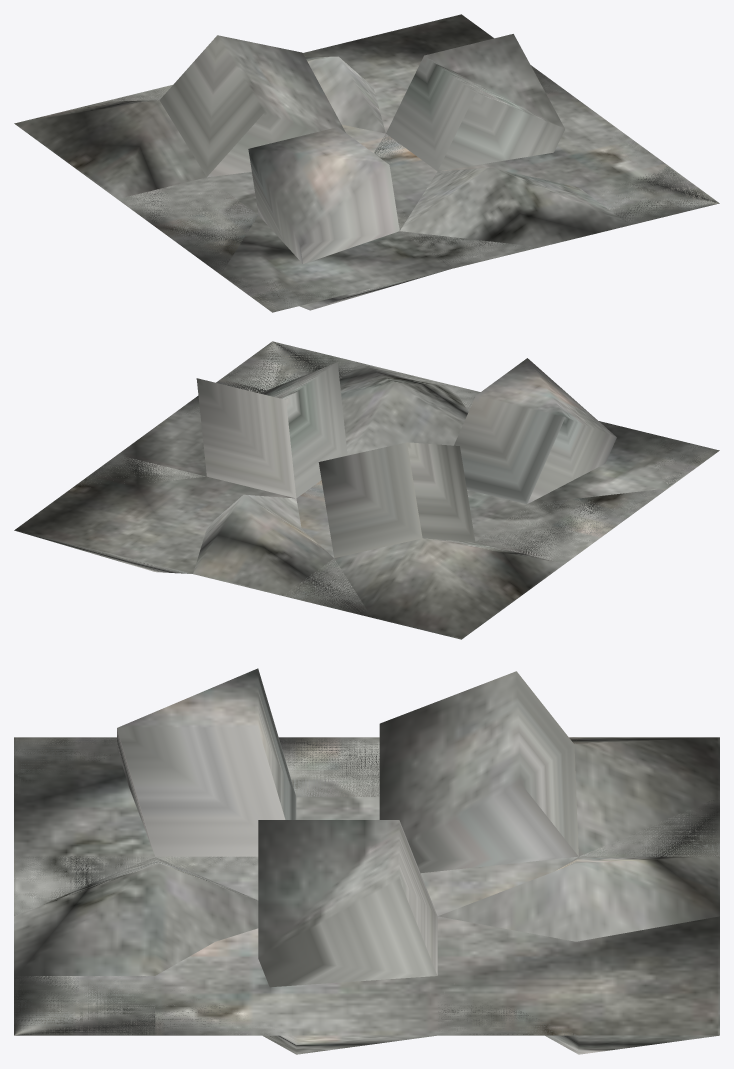
Rendered from floor_debris_2.obj.
The picture shows the model from 3 angles, top to bottom: view 1: azimuth 30°, elevation 25°; view 2: azimuth 150°, elevation 25°; view 3: azimuth 270°, elevation 25°; orthographic projection. The views are drawn at different scales.
Parts seen in each view (by area): view 1: grid1; view 2: grid1; view 3: grid1.
Part boxes in pixels (bbox=[...]): grid1: bbox=[14, 14, 719, 312]; grid1: bbox=[14, 341, 719, 639]; grid1: bbox=[14, 668, 719, 1054].
Bounding box in the file's own units: 1 × 0.3608 × 1.
Materials: 1 (1 with a texture image).
